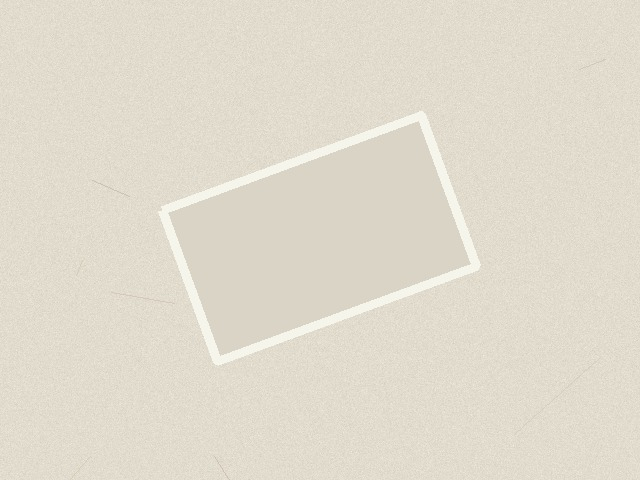parking_area: (162, 115, 476, 361)
